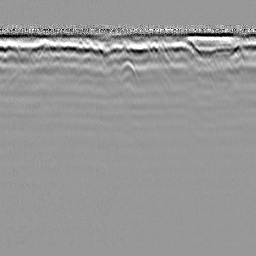cavity: (116, 59, 140, 87)
